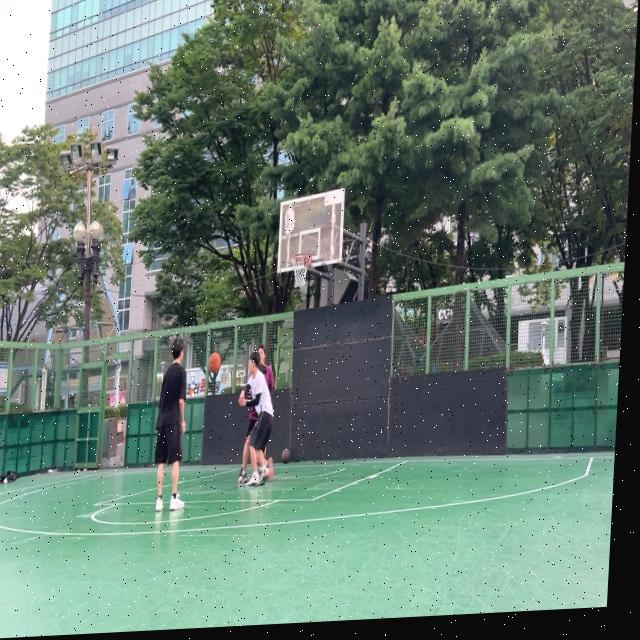basketball: (208, 352, 222, 373), (281, 447, 291, 465)
hoop: (289, 251, 313, 288)
